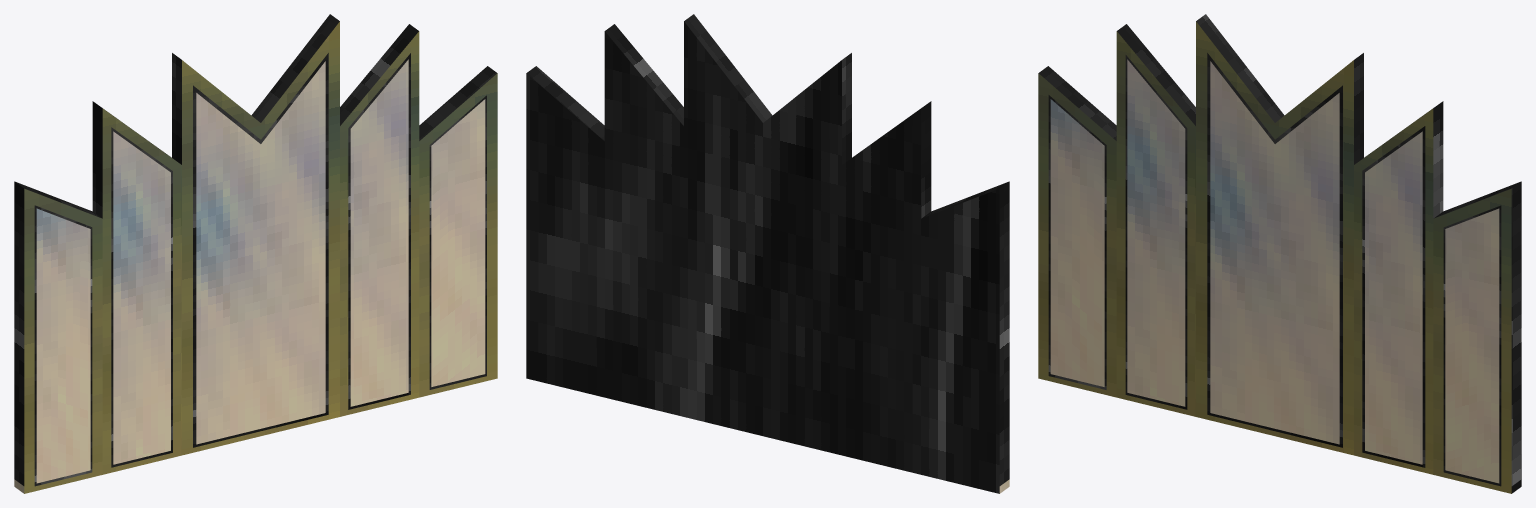
File: Cabinet 1.glb
3 views of the same model, side by side, from view 1: azimuth 30°, elevation 25°; view 2: azimuth 150°, elevation 25°; view 3: azimuth 330°, elevation 25° (orthographic).
Parts seen in each view (by area): view 1: Cube; view 2: Cube; view 3: Cube.
Boxes of the visible parts, x1,y1,x2,y2 form: Cube: (14, 14, 497, 493); Cube: (526, 14, 1009, 493); Cube: (1038, 14, 1521, 493).
Size of the model in its own units: 2.63 by 2.1 by 0.0951.
Materials: 1 (1 with a texture image).
